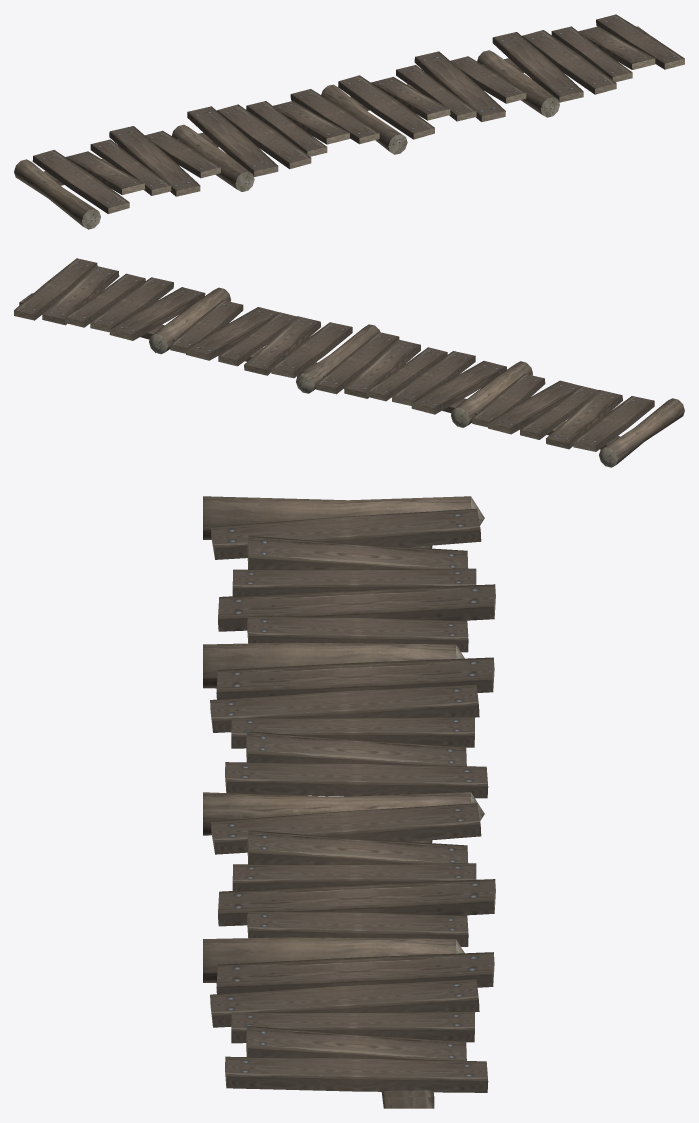
Rendered from Fence_Type_02_D.fbx.
3 renders of one model, top to bottom at view 1: azimuth 30°, elevation 25°; view 2: azimuth 150°, elevation 25°; view 3: azimuth 270°, elevation 25°, orthographic. The views are drawn at different scales.
Visible parts, largest first — view 1: Fence_Type_02_D; view 2: Fence_Type_02_D; view 3: Fence_Type_02_D.
Boxes of the visible parts, x1,y1,x2,y2 form: Fence_Type_02_D: (14, 14, 684, 229); Fence_Type_02_D: (14, 258, 684, 467); Fence_Type_02_D: (203, 496, 495, 1108).
Bounding box in the file's own units: 8.03 × 0.2853 × 1.68.
